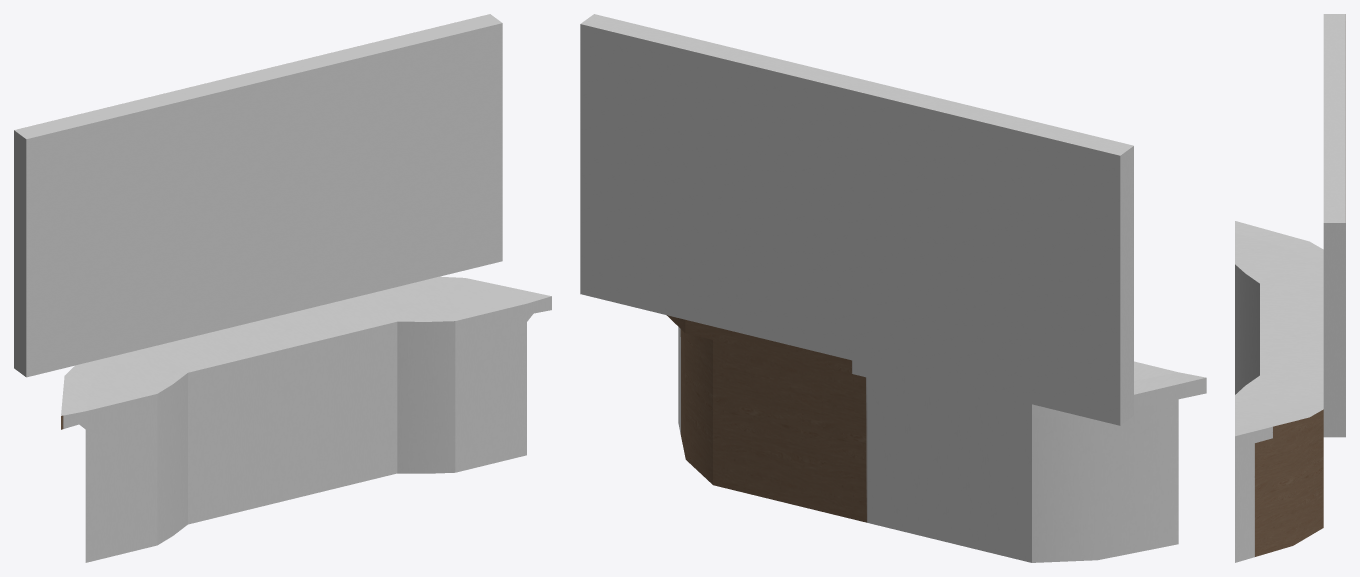
File: Props_Vanity.fbx
3 views of the same model, side by side, from view 1: azimuth 30°, elevation 25°; view 2: azimuth 150°, elevation 25°; view 3: azimuth 270°, elevation 25° (orthographic). The views are drawn at different scales.
Visible parts, largest first — view 1: pasted__Mirror, props_Sink; view 2: pasted__Mirror, props_Sink; view 3: props_Sink, pasted__Mirror.
Part boxes in pixels (x1,y1,x2,y2): pasted__Mirror: (14,14,502,377); props_Sink: (61,276,551,562); pasted__Mirror: (580,14,1133,425); props_Sink: (666,315,1206,562); props_Sink: (1235,221,1323,562); pasted__Mirror: (1323,14,1345,437).
Size of the model in its own units: 324 by 246 by 70.38.
